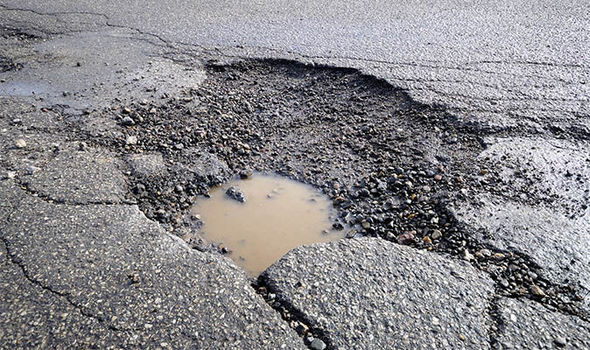pothole: (122, 99, 348, 289)
